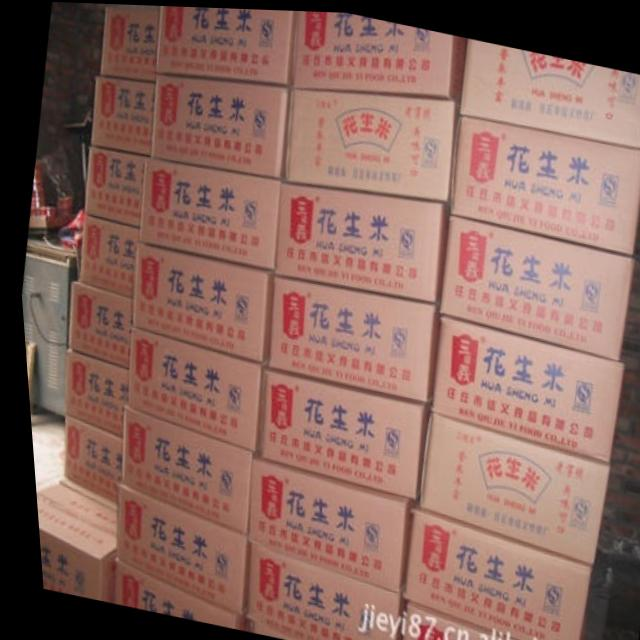box: (423, 310, 622, 461), (410, 407, 603, 560), (434, 210, 631, 354), (447, 108, 640, 251), (394, 504, 585, 640), (238, 455, 412, 592), (261, 272, 433, 404), (252, 367, 424, 496), (270, 180, 446, 301), (281, 82, 458, 201), (459, 34, 640, 143), (121, 324, 262, 452), (125, 240, 269, 361), (107, 483, 239, 615), (115, 406, 252, 533), (133, 153, 281, 270), (233, 537, 397, 640), (290, 9, 465, 101), (147, 73, 288, 176), (154, 5, 296, 84), (29, 481, 108, 603), (105, 559, 234, 627), (52, 415, 116, 511), (61, 276, 127, 368), (57, 349, 123, 435), (87, 71, 153, 154), (81, 142, 143, 226), (392, 597, 508, 640), (75, 213, 134, 296), (98, 5, 159, 82)
